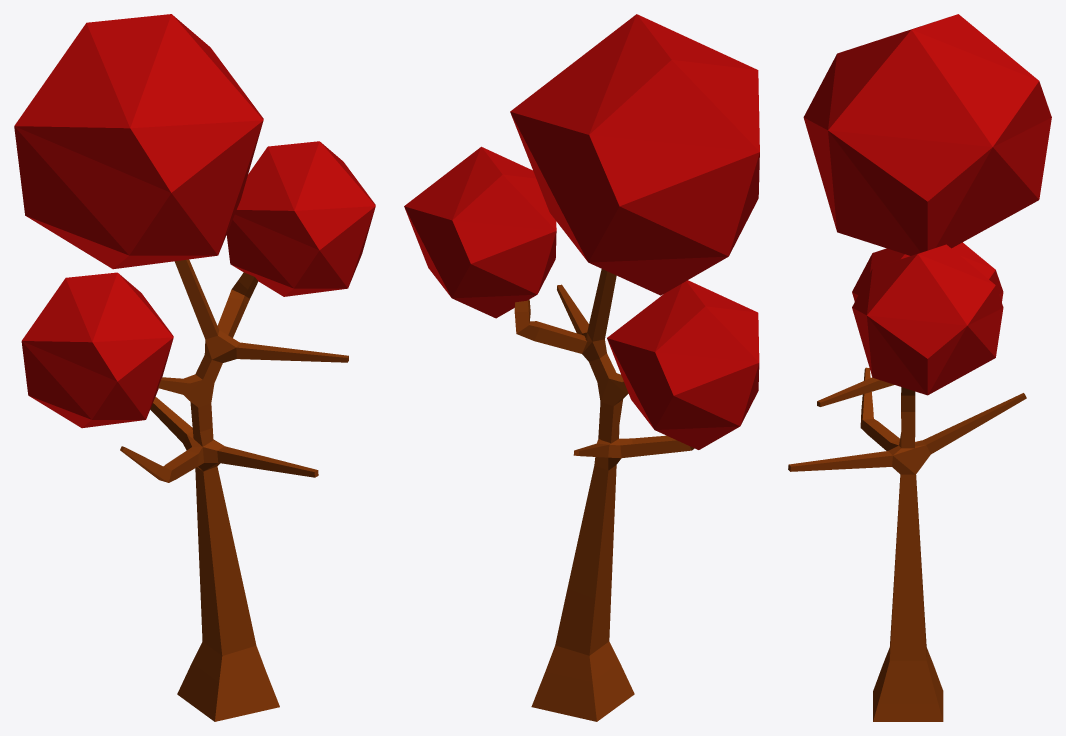
The model's file is sharUpRed.fbx.
The picture shows the model from 3 angles, left to right: view 1: azimuth 30°, elevation 25°; view 2: azimuth 150°, elevation 25°; view 3: azimuth 270°, elevation 25°; orthographic projection. The views are drawn at different scales.
Parts seen in each view (by area): view 1: Plane; view 2: Plane; view 3: Plane.
Boxes of the visible parts, left/top/right/bottom form: Plane: left=14, top=14, right=375, bottom=721; Plane: left=404, top=14, right=759, bottom=721; Plane: left=788, top=14, right=1051, bottom=721.
Bounding box in the file's own units: 4.59 × 8.7 × 3.19.
